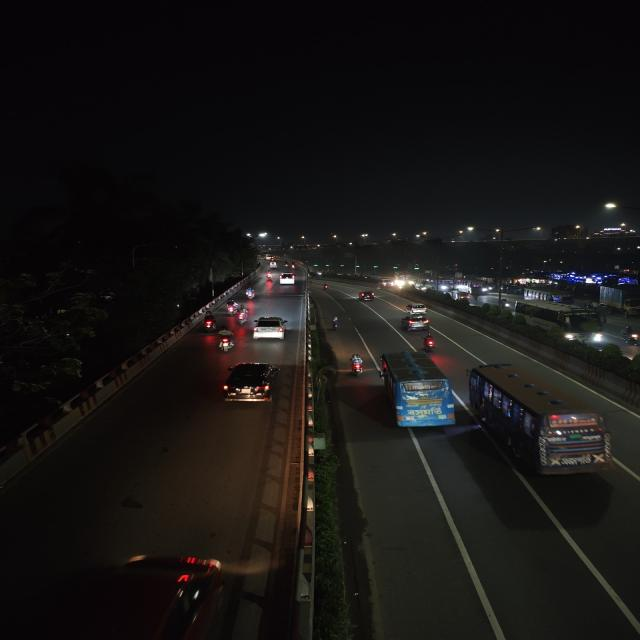bus: (465, 360, 623, 482), (376, 351, 460, 435), (514, 301, 606, 345), (466, 279, 495, 297), (436, 277, 455, 289)
car: (221, 360, 282, 406), (250, 316, 289, 342), (400, 314, 433, 332), (403, 301, 430, 315), (357, 290, 376, 302), (279, 273, 296, 285)
motorcycle: (346, 351, 368, 379), (214, 329, 238, 354), (420, 332, 440, 353), (620, 326, 640, 347), (202, 314, 220, 332), (234, 309, 249, 326), (243, 284, 258, 300), (224, 299, 239, 315), (329, 316, 343, 330), (320, 282, 330, 292), (264, 277, 273, 287), (264, 271, 274, 279)
truck: (602, 285, 640, 317)
